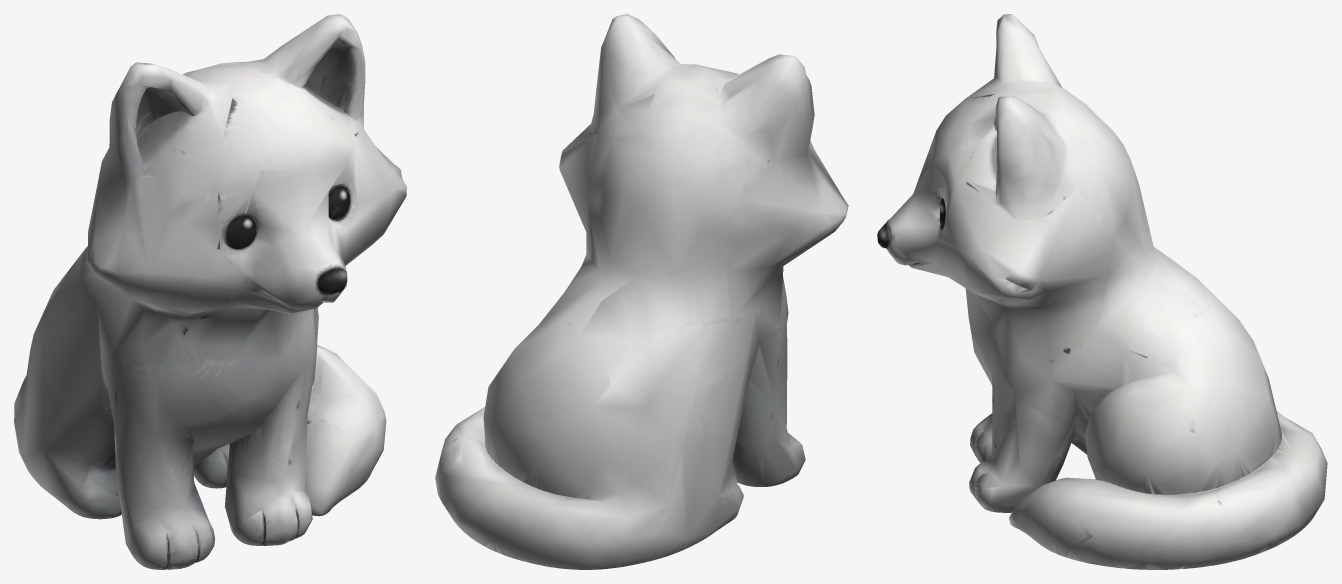
Rendered from arctic_fox_pbr.glb.
3 renders of one model, left to right at view 1: azimuth 30°, elevation 25°; view 2: azimuth 150°, elevation 25°; view 3: azimuth 270°, elevation 25°, orthographic. The views are drawn at different scales.
Parts seen in each view (by area): view 1: model; view 2: model; view 3: model.
Boxes of the visible parts, x1,y1,x2,y2 form: model: (14,14,406,569); model: (435,14,848,569); model: (877,14,1327,569).
Size of the model in its own units: 1.1 by 1.46 by 1.39.
Materials: 1 (1 with a texture image).
